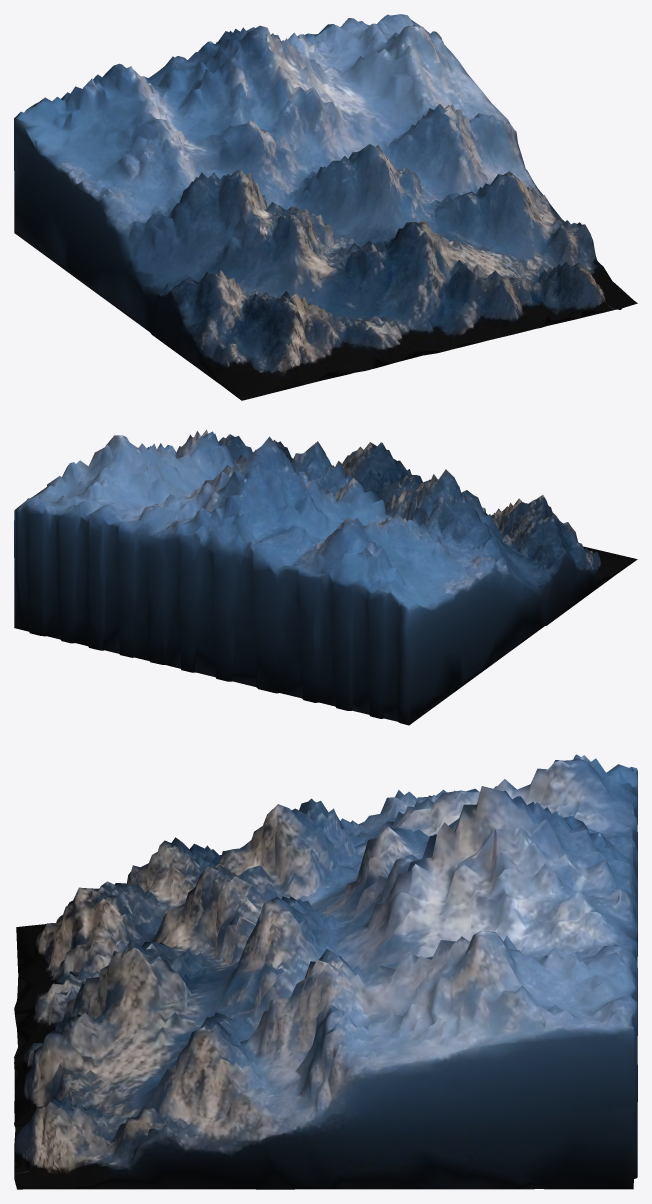
File: mountain range 3d model.glb
3 renders of one model, top to bottom at view 1: azimuth 30°, elevation 25°; view 2: azimuth 150°, elevation 25°; view 3: azimuth 270°, elevation 25°, orthographic. The views are drawn at different scales.
Parts seen in each view (by area): view 1: tripo_node_03413124-74d5-4496-9bc5-e67eca9ad8b9; view 2: tripo_node_03413124-74d5-4496-9bc5-e67eca9ad8b9; view 3: tripo_node_03413124-74d5-4496-9bc5-e67eca9ad8b9.
Boxes of the visible parts, bbox=[...] form: tripo_node_03413124-74d5-4496-9bc5-e67eca9ad8b9: bbox=[14, 14, 637, 400]; tripo_node_03413124-74d5-4496-9bc5-e67eca9ad8b9: bbox=[14, 429, 637, 725]; tripo_node_03413124-74d5-4496-9bc5-e67eca9ad8b9: bbox=[14, 754, 637, 1189].
Size of the model in its own units: 0.9991 by 0.4834 by 1.
Materials: 1 (1 with a texture image).
